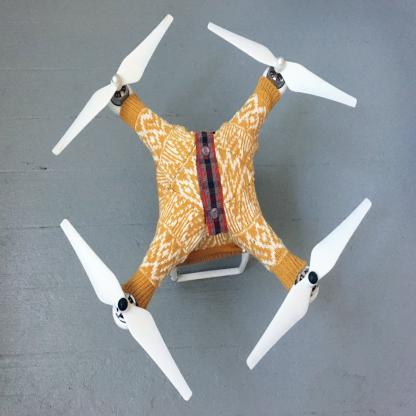drone: (41, 16, 374, 402)
